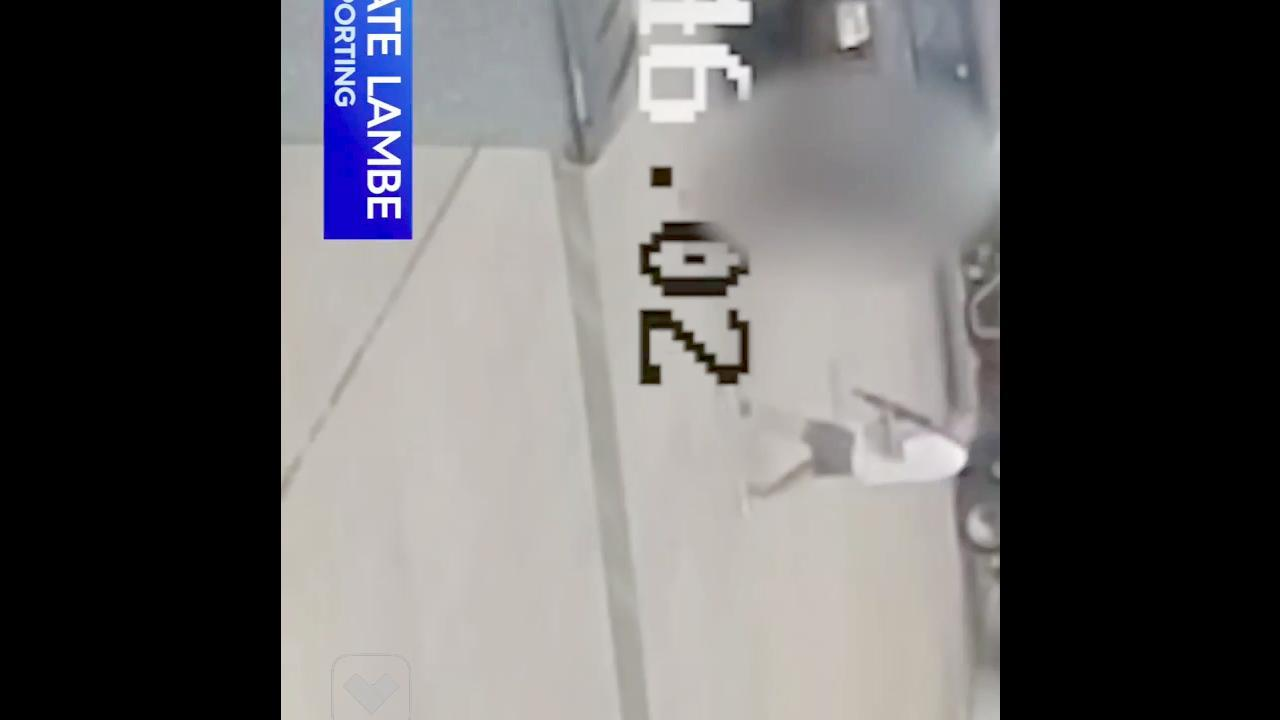gun: (846, 381, 938, 429)
